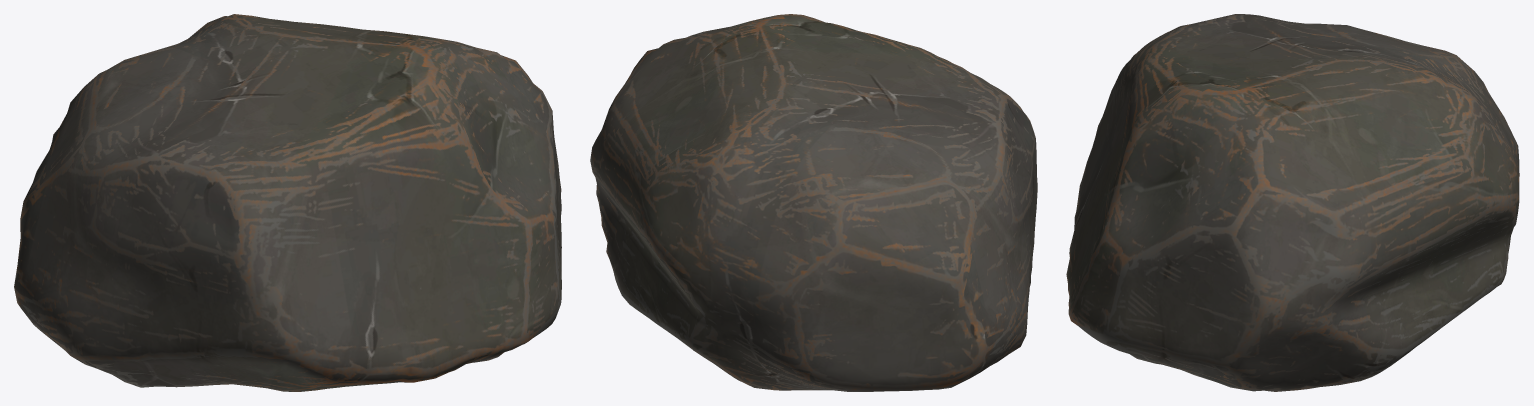
The model's file is rock.glb.
3 views of the same model, side by side, from view 1: azimuth 30°, elevation 25°; view 2: azimuth 150°, elevation 25°; view 3: azimuth 270°, elevation 25° (orthographic). The views are drawn at different scales.
Visible parts, largest first — view 1: Object_2; view 2: Object_2; view 3: Object_2.
Boxes of the visible parts, box(x1,y1,x2,y2) form: Object_2: box(14, 14, 561, 391); Object_2: box(590, 14, 1037, 391); Object_2: box(1066, 14, 1519, 391).
Bounding box in the file's own units: 90.44 × 53.49 × 78.76.
Materials: 1 (1 with a texture image).
